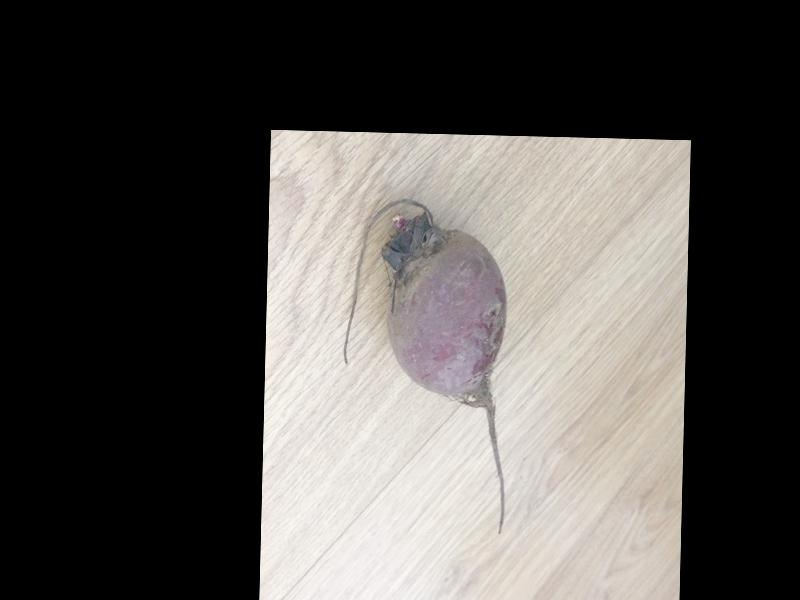Beet: (339, 197, 513, 534)
